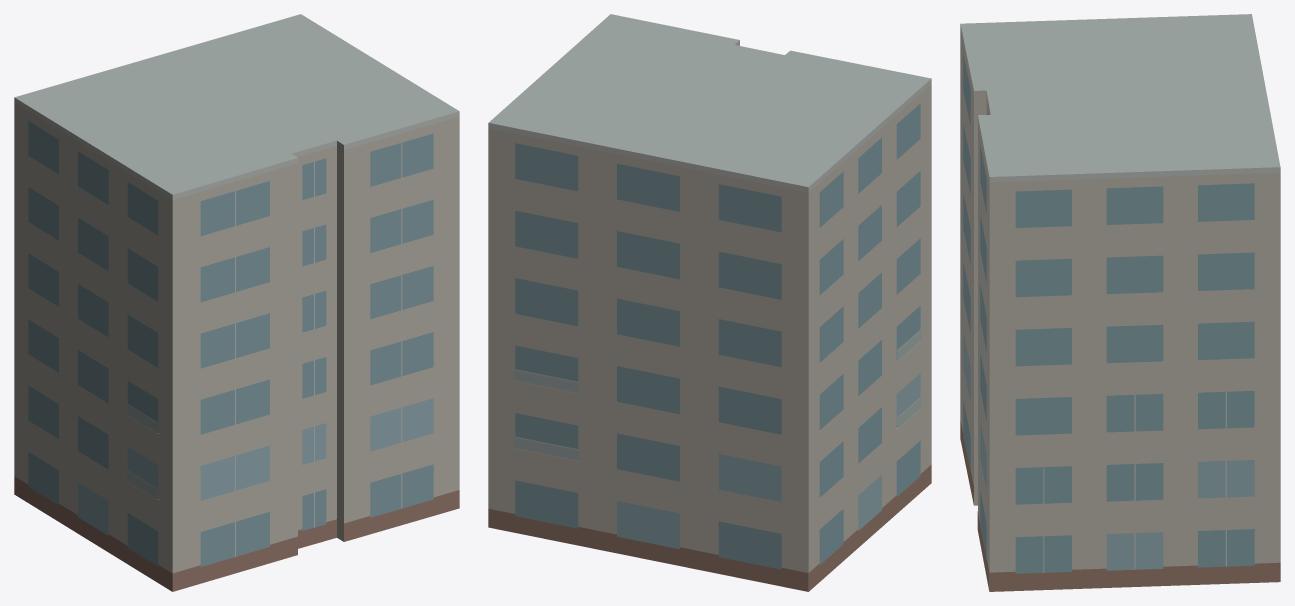
File: survey-upis-33036482.glb
3 views of the same model, side by side, from view 1: azimuth 30°, elevation 25°; view 2: azimuth 150°, elevation 25°; view 3: azimuth 270°, elevation 25° (orthographic). The views are drawn at different scales.
Parts seen in each view (by area): view 1: survey-upis-33036482.tmp; view 2: survey-upis-33036482.tmp; view 3: survey-upis-33036482.tmp.
Part boxes in pixels (x1,y1,x2,y2): survey-upis-33036482.tmp: (14, 14, 459, 591); survey-upis-33036482.tmp: (488, 14, 931, 591); survey-upis-33036482.tmp: (960, 14, 1280, 591).
Bounding box in the file's own units: 15.52 × 18.4 × 12.88.
